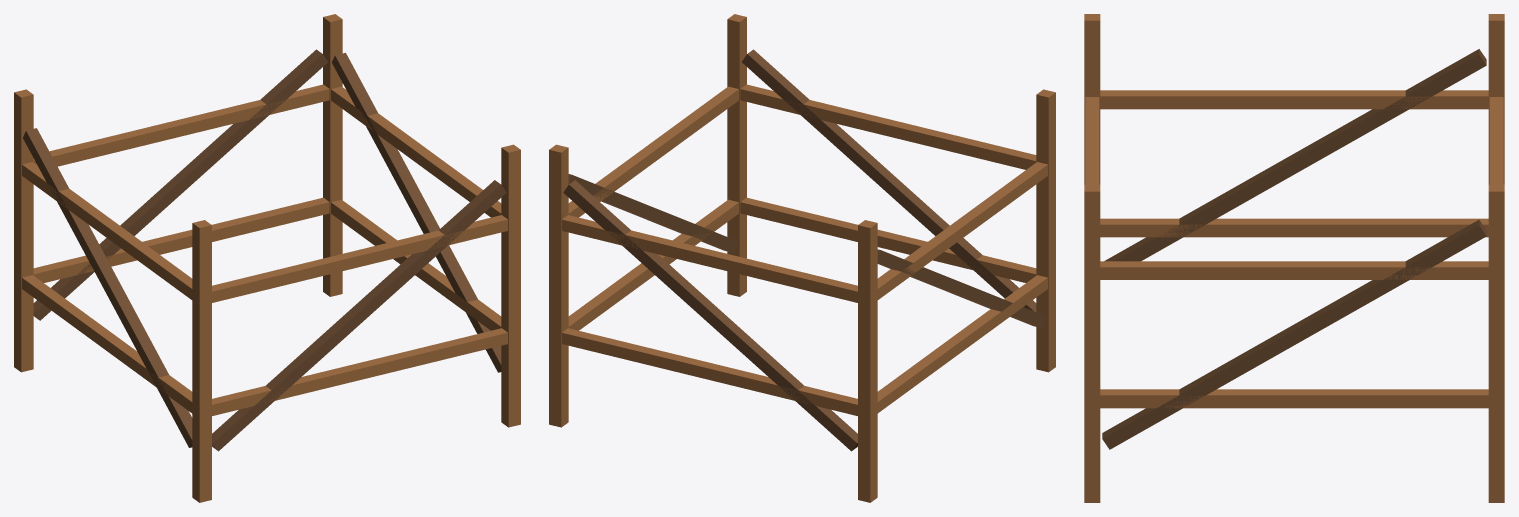
File: scaffold.glb
3 renders of one model, left to right at view 1: azimuth 30°, elevation 25°; view 2: azimuth 150°, elevation 25°; view 3: azimuth 270°, elevation 25°, orthographic. The views are drawn at different scales.
Visible parts, largest first — view 1: Model; view 2: Model; view 3: Model.
Part boxes in pixels (x1,y1,x2,y2): Model: (14, 14, 520, 502); Model: (549, 14, 1055, 502); Model: (1084, 14, 1504, 502).
Size of the model in its own units: 2.08 by 1.7 by 2.08.
